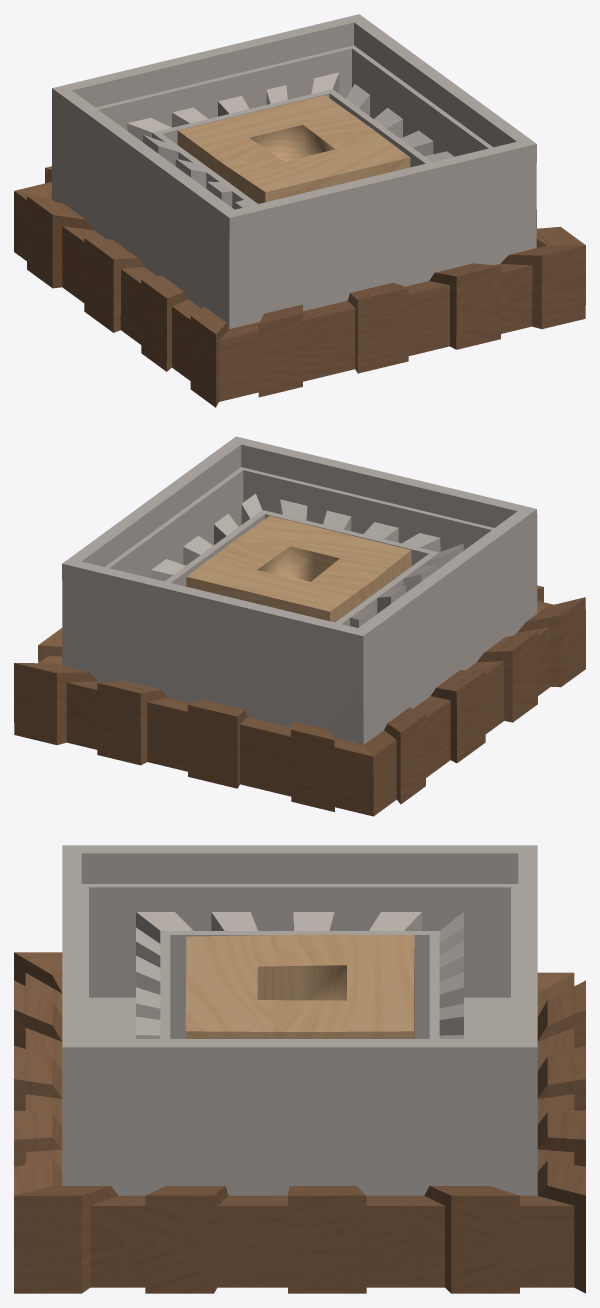
Rendered from arrow machine fbx.fbx.
The picture shows the model from 3 angles, top to bottom: view 1: azimuth 30°, elevation 25°; view 2: azimuth 150°, elevation 25°; view 3: azimuth 270°, elevation 25°; orthographic projection. The views are drawn at different scales.
Parts seen in each view (by area): view 1: polySurface1, polySurface5, polySurface2, polySurface3; view 2: polySurface1, polySurface4, polySurface2, polySurface3; view 3: polySurface1, polySurface3, polySurface4, polySurface5, polySurface2.
Part boxes in pixels (bbox=[...]): polySurface1: bbox=[51, 14, 536, 328]; polySurface5: bbox=[219, 245, 585, 401]; polySurface2: bbox=[14, 191, 228, 407]; polySurface3: bbox=[536, 209, 585, 304]; polySurface1: bbox=[62, 436, 537, 744]; polySurface4: bbox=[14, 663, 373, 816]; polySurface2: bbox=[364, 597, 585, 815]; polySurface3: bbox=[38, 628, 62, 665]; polySurface1: bbox=[62, 845, 537, 1195]; polySurface3: bbox=[14, 1186, 574, 1293]; polySurface4: bbox=[537, 973, 585, 1293]; polySurface5: bbox=[14, 973, 62, 1195]; polySurface2: bbox=[14, 952, 573, 993].
Size of the model in its own units: 11.13 by 4.88 by 11.12.
1 material, 1 textured.
